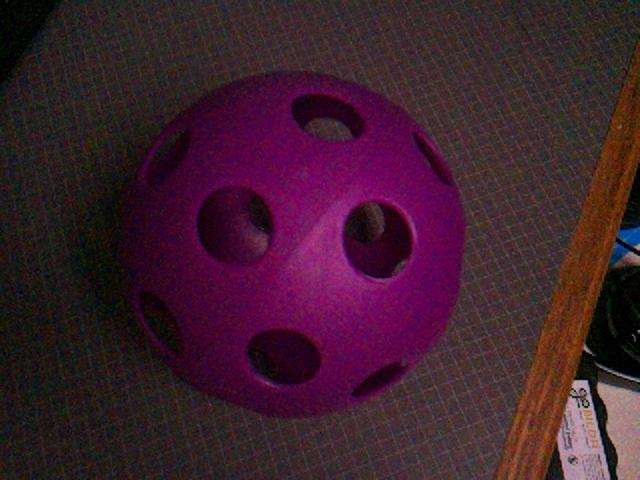Purple: (118, 79, 464, 416)
